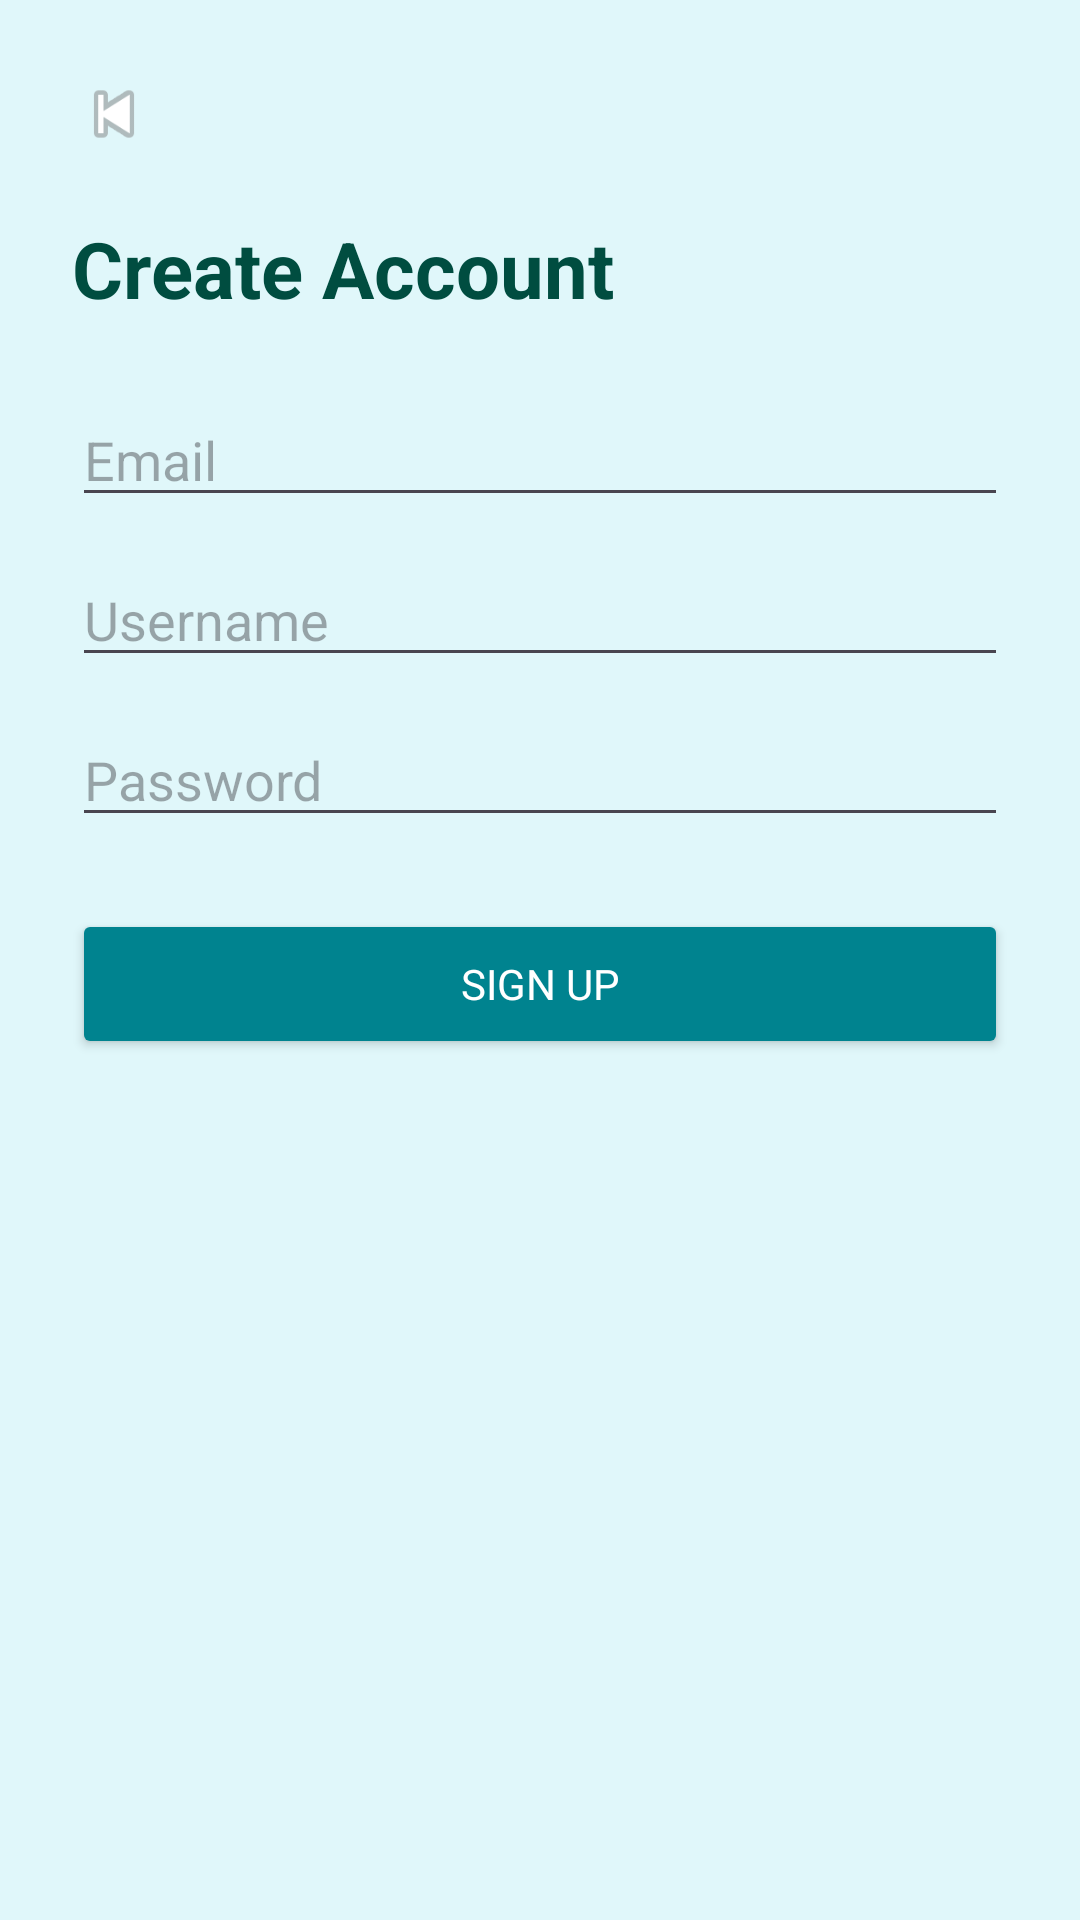

Icons on this 1080 x 1920 Android screen, each with its box as box(x1, y1, x2, y2):
Back: box(94, 90, 134, 138)
